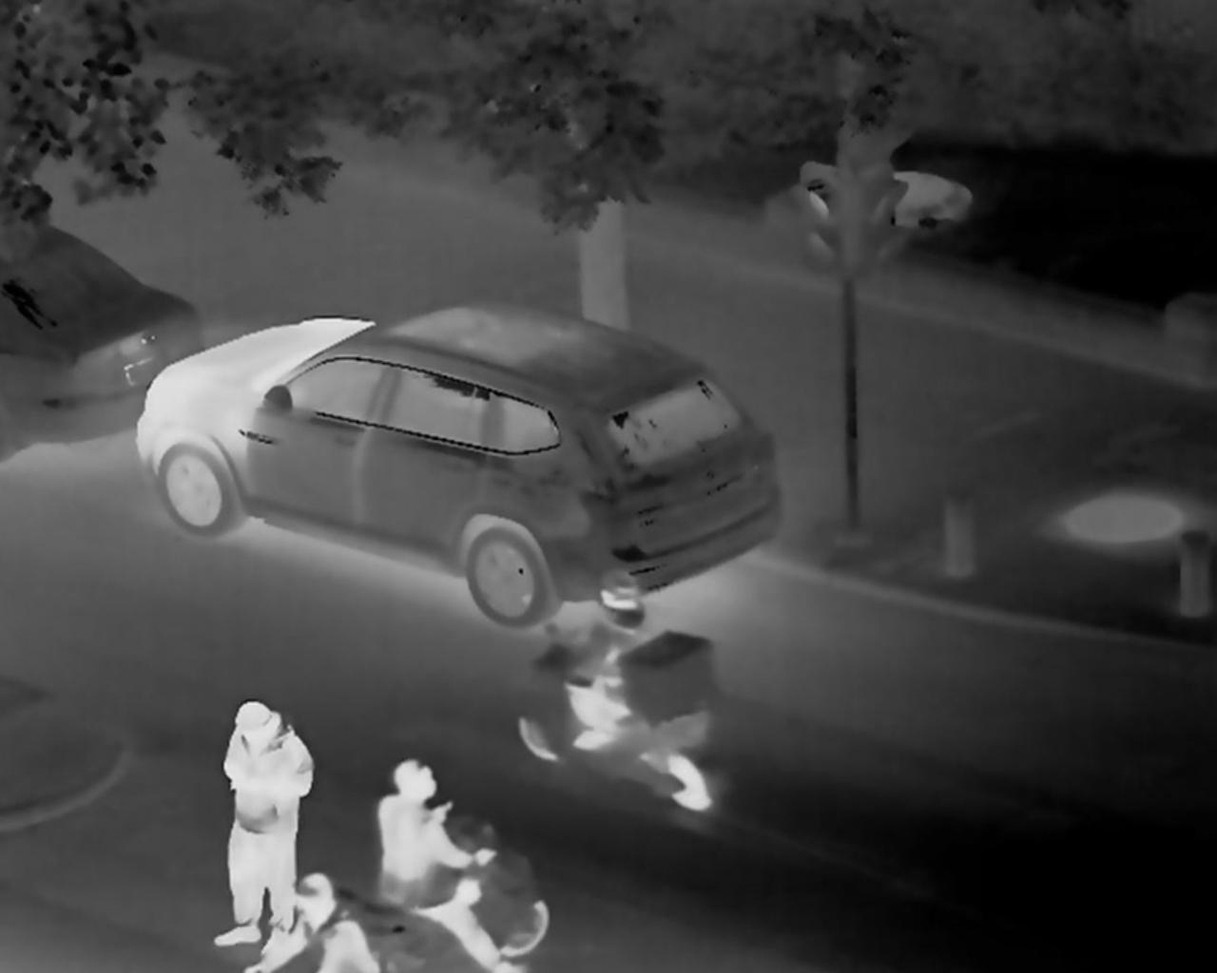person: (376, 755, 530, 973), (209, 697, 317, 955), (557, 568, 655, 754), (235, 877, 386, 973)
